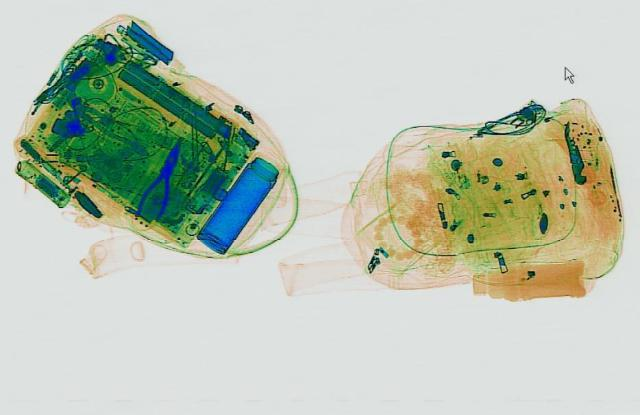Pliers: (132, 134, 190, 221)
